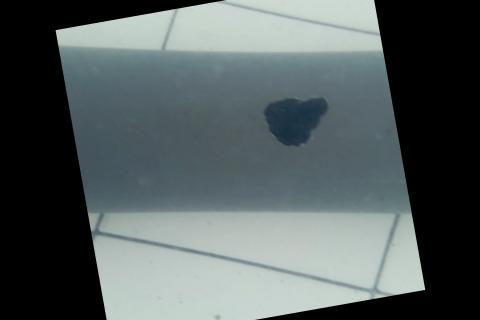kebocoran: (258, 88, 338, 152)
